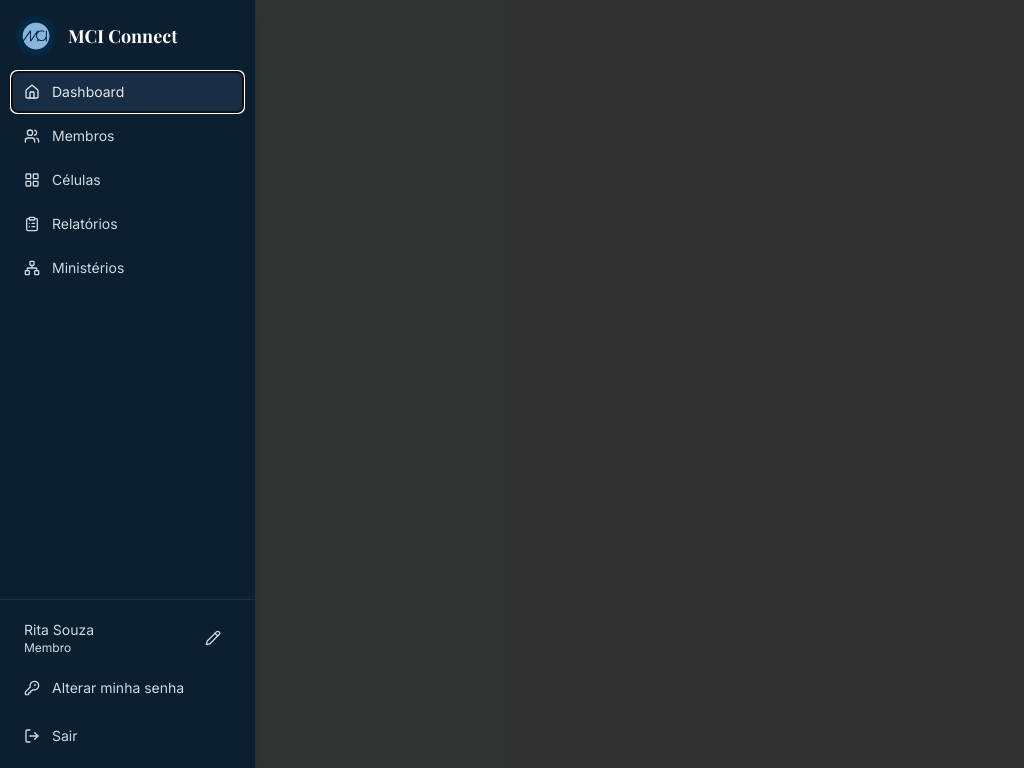
Test case: UX-14 (E2.03, T4): 'Alterar minha senha' no menu › no celular, o toque fecha o menu e abre o diálogo
Earlier steps of the test are not shown.
Click the button "Alterar minha senha" at coordinates (128, 688), box [12,668,243,708]
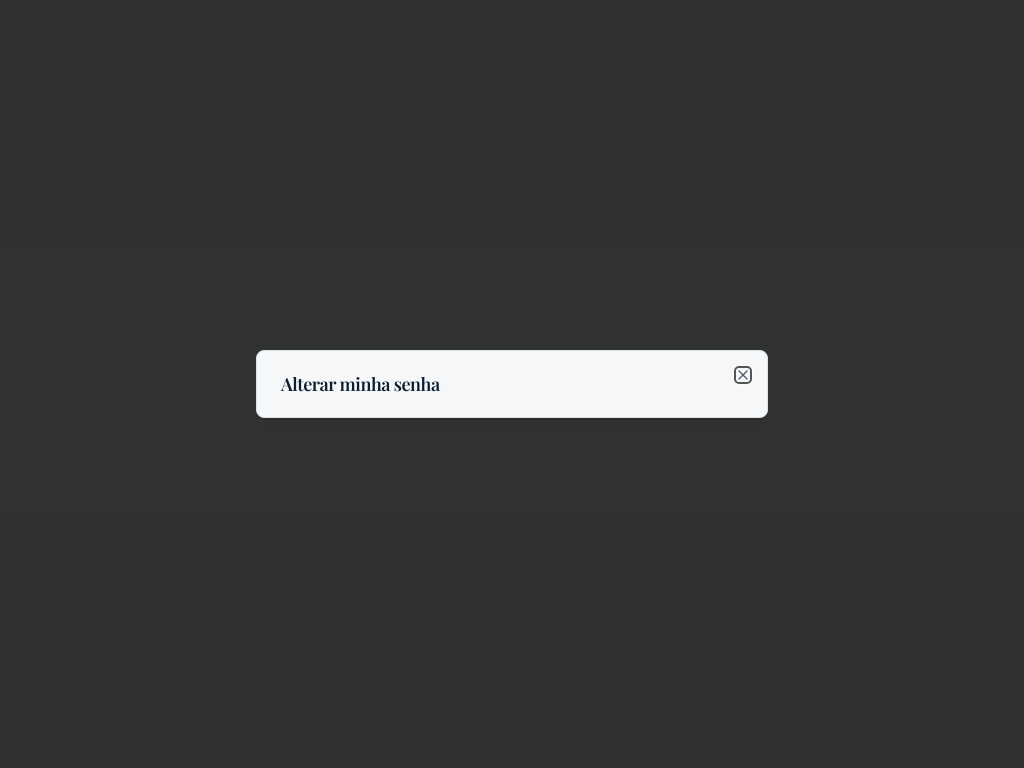
Expected: the dialog "Alterar minha senha" is shown, [256,350,768,418]
Expected: the element with test id "menu-content" is gone
